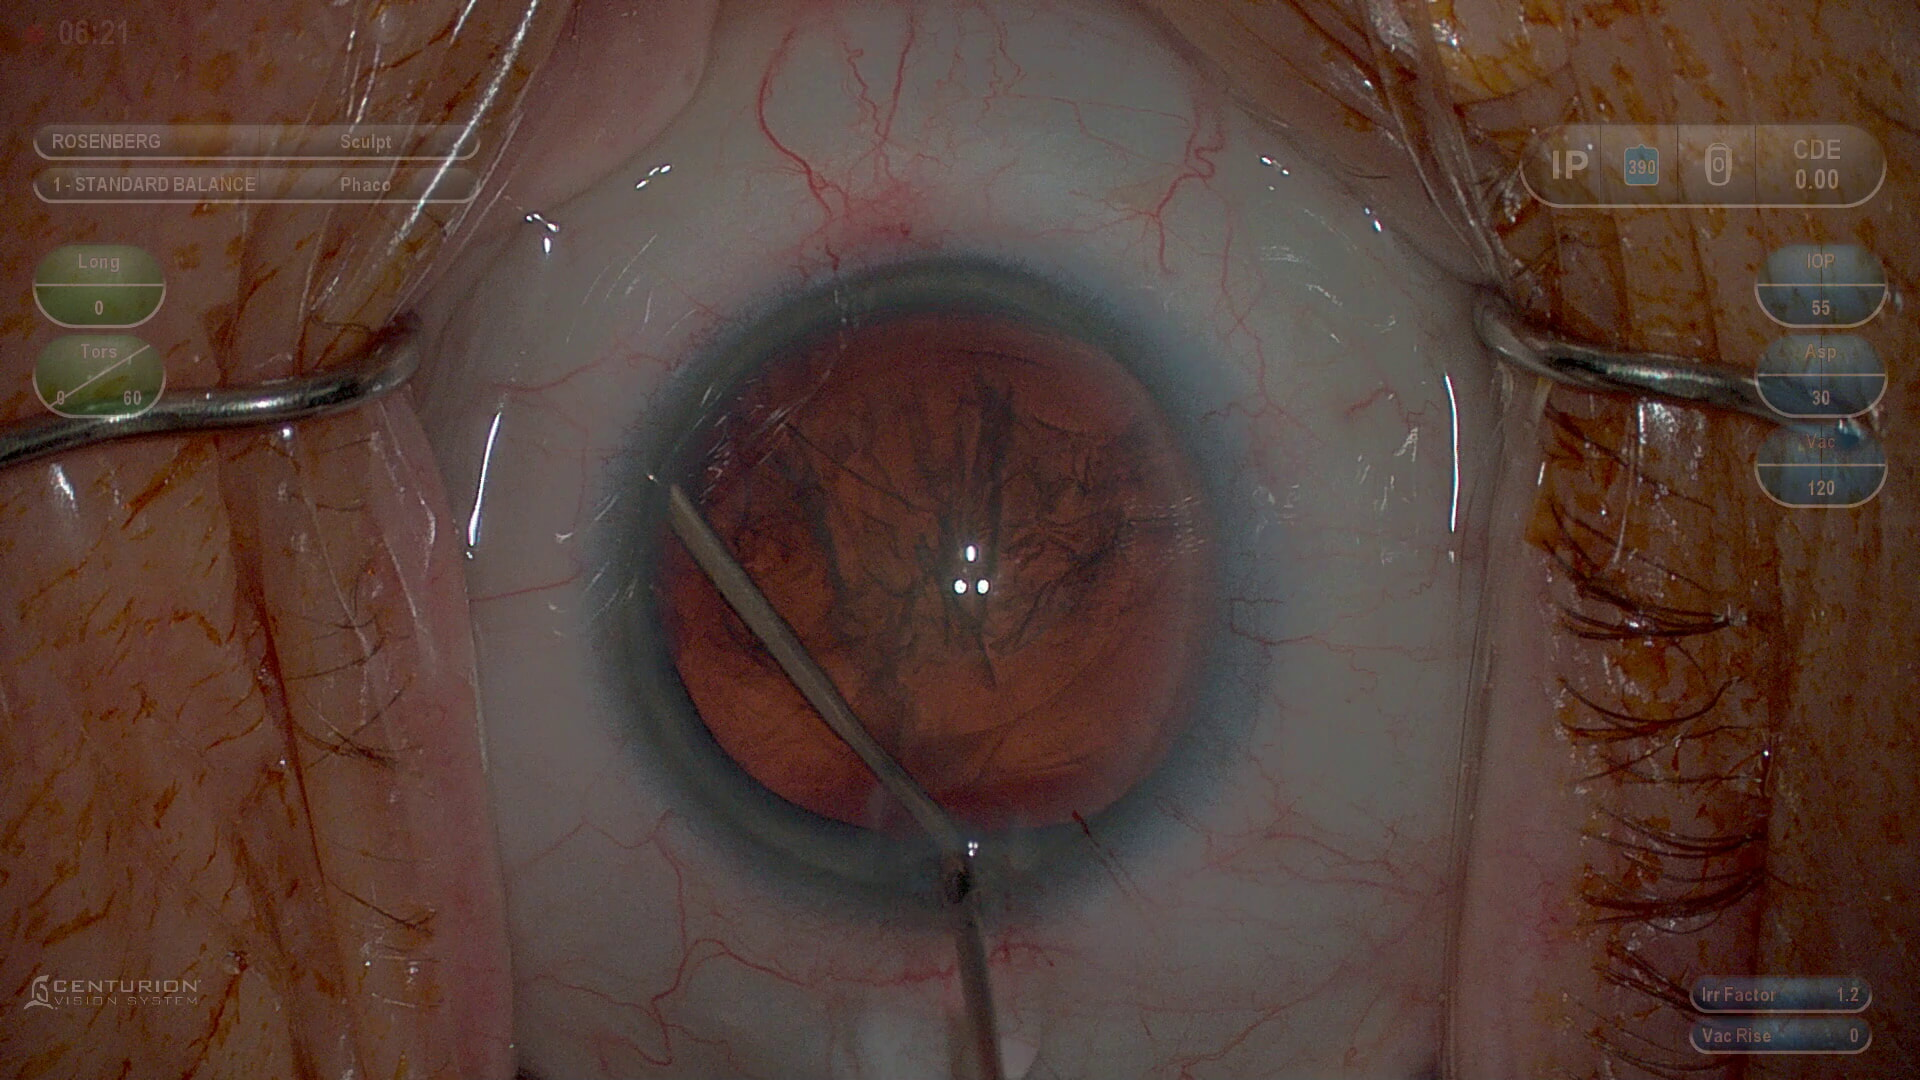iris: (606, 270, 1255, 916)
pupil: (660, 311, 1203, 836)
